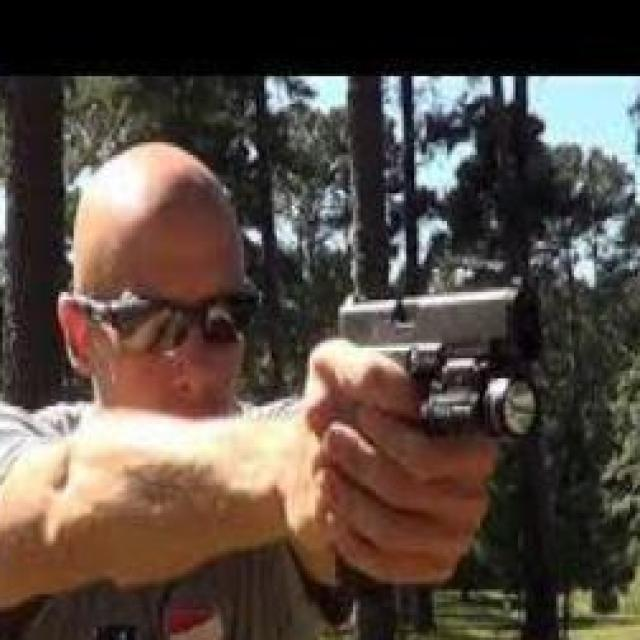pistol: (332, 277, 544, 609)
